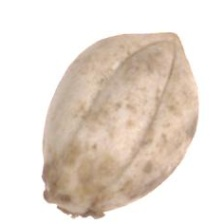L1: (41, 183, 105, 220), (149, 29, 186, 57)
L2: (41, 32, 199, 219)
